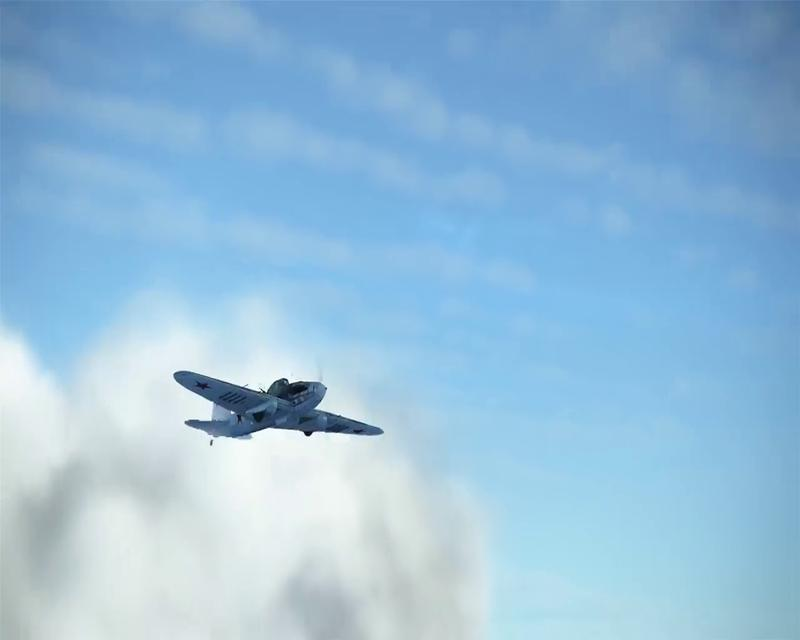UAV: (171, 368, 384, 446)
